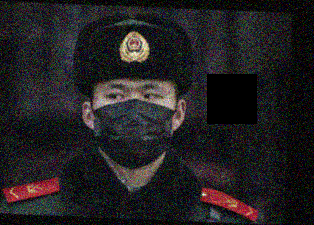with_mask: (90, 80, 177, 168)
